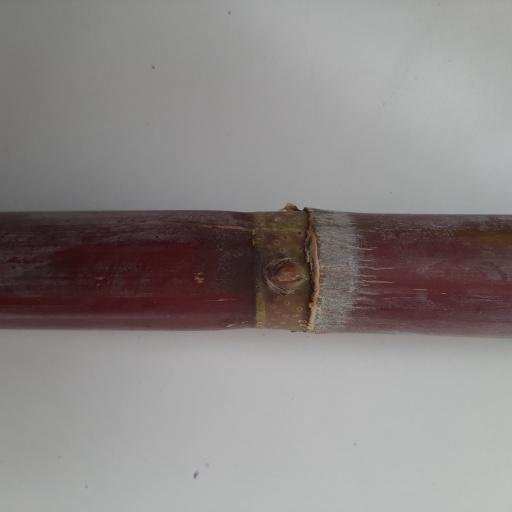Bud: (262, 256, 311, 294)
